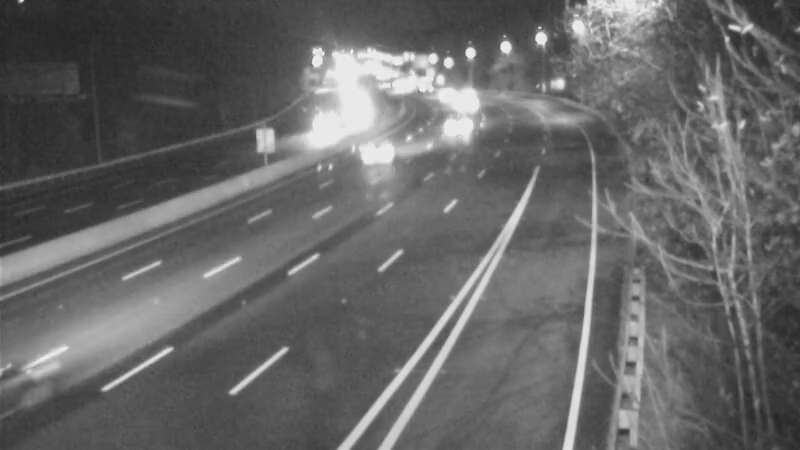vehicle: (1, 325, 98, 435), (403, 62, 453, 112), (416, 68, 466, 118), (436, 80, 486, 130), (434, 101, 484, 151), (357, 125, 407, 175), (302, 101, 352, 151), (333, 90, 383, 140)
